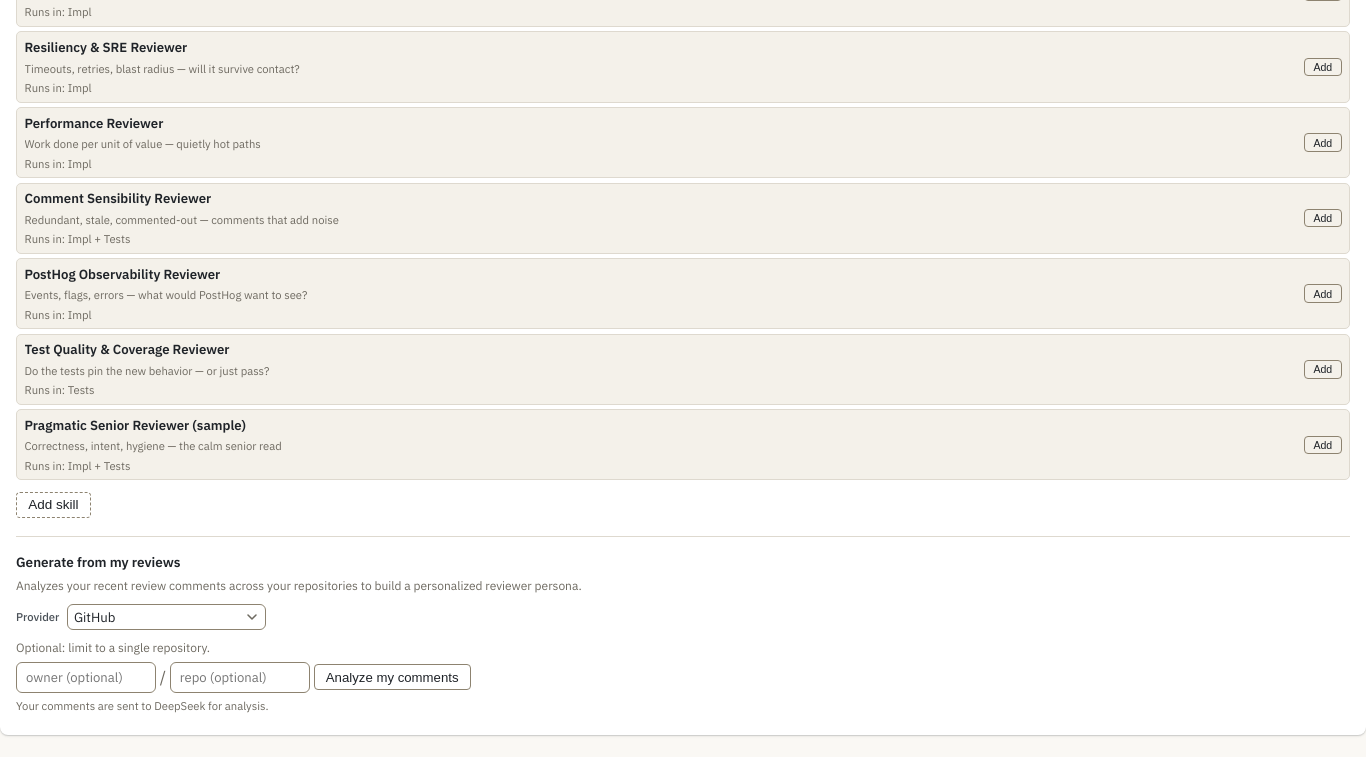
Test: SkillsSection — account-wide mining UI › analyze button is enabled again when both filter fields are filled
(page scrolled)
Type "myorg" into the field named "repository owner".
click(86, 677); type("myorg")  # box [16,662,156,693]
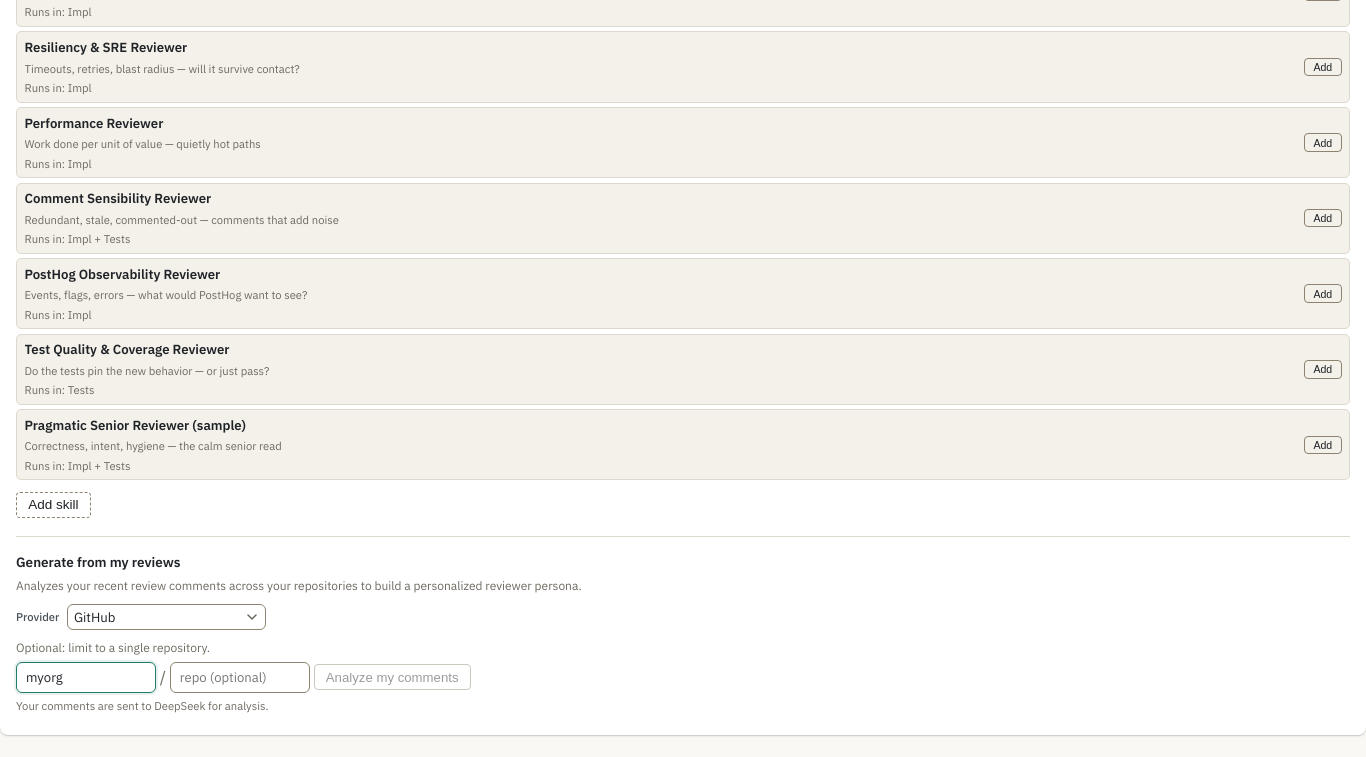
Type "myrepo" into the field named "repository name".
click(240, 677); type("myrepo")  # box [170,662,310,693]
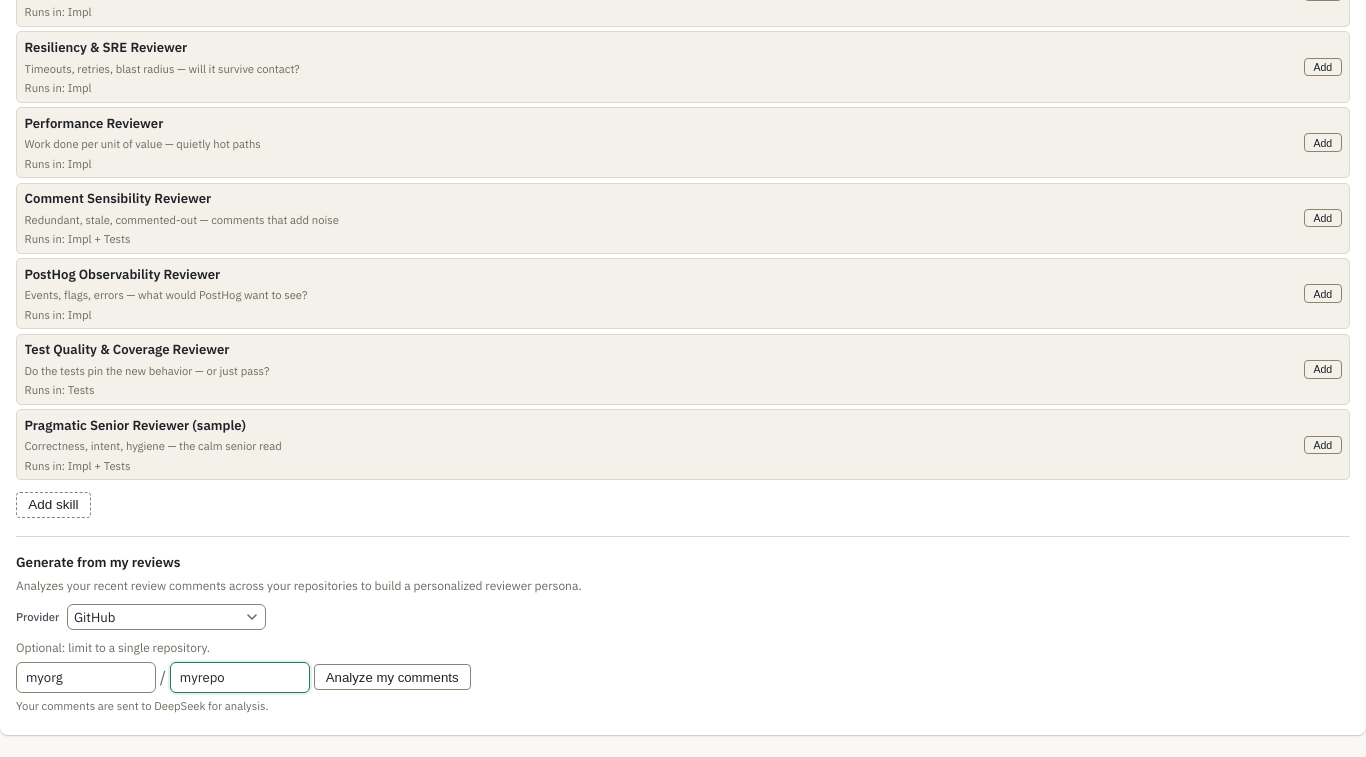
Check: the button "Analyze my comments" is enabled, box [314,664,471,690]
